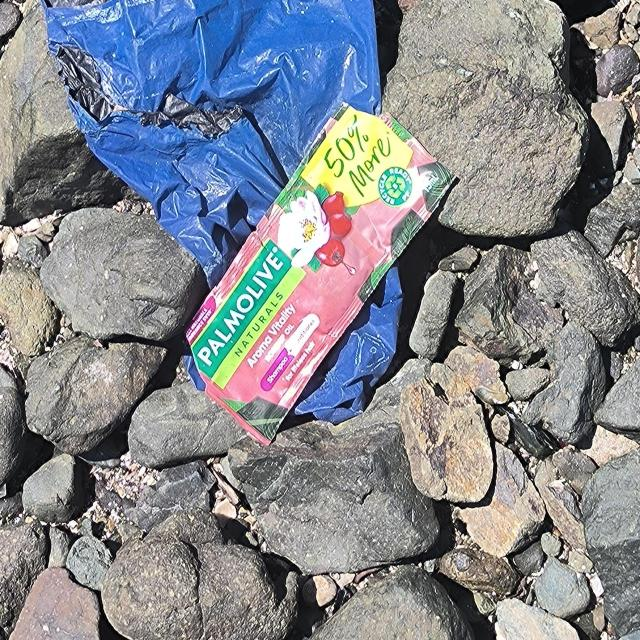plastic_waste: (185, 103, 459, 447)
